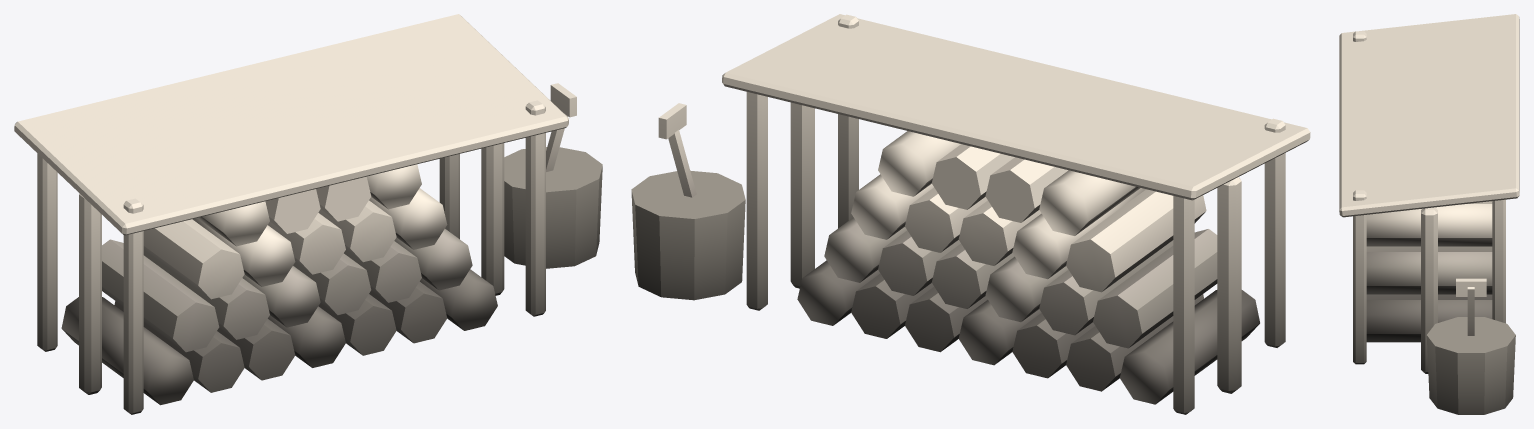
File: SM_VK_Prop_Woodpile.fbx
The picture shows the model from 3 angles, left to right: view 1: azimuth 30°, elevation 25°; view 2: azimuth 150°, elevation 25°; view 3: azimuth 270°, elevation 25°; orthographic projection. The views are drawn at different scales.
Visible parts, largest first — view 1: SM_VK_Prop_Woodpile.001; view 2: SM_VK_Prop_Woodpile.001; view 3: SM_VK_Prop_Woodpile.001.
Boxes of the visible parts, x1,y1,x2,y2 form: SM_VK_Prop_Woodpile.001: [14, 14, 602, 414]; SM_VK_Prop_Woodpile.001: [631, 14, 1310, 414]; SM_VK_Prop_Woodpile.001: [1339, 14, 1519, 414].
Bounding box in the file's own units: 3.7 × 1.52 × 1.3.
